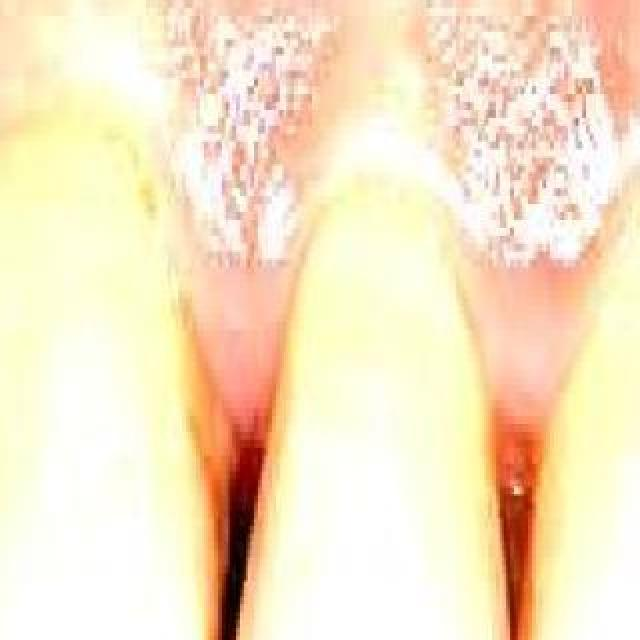spacing: (136, 424, 292, 640)
stains: (147, 334, 269, 584), (456, 424, 590, 640)
